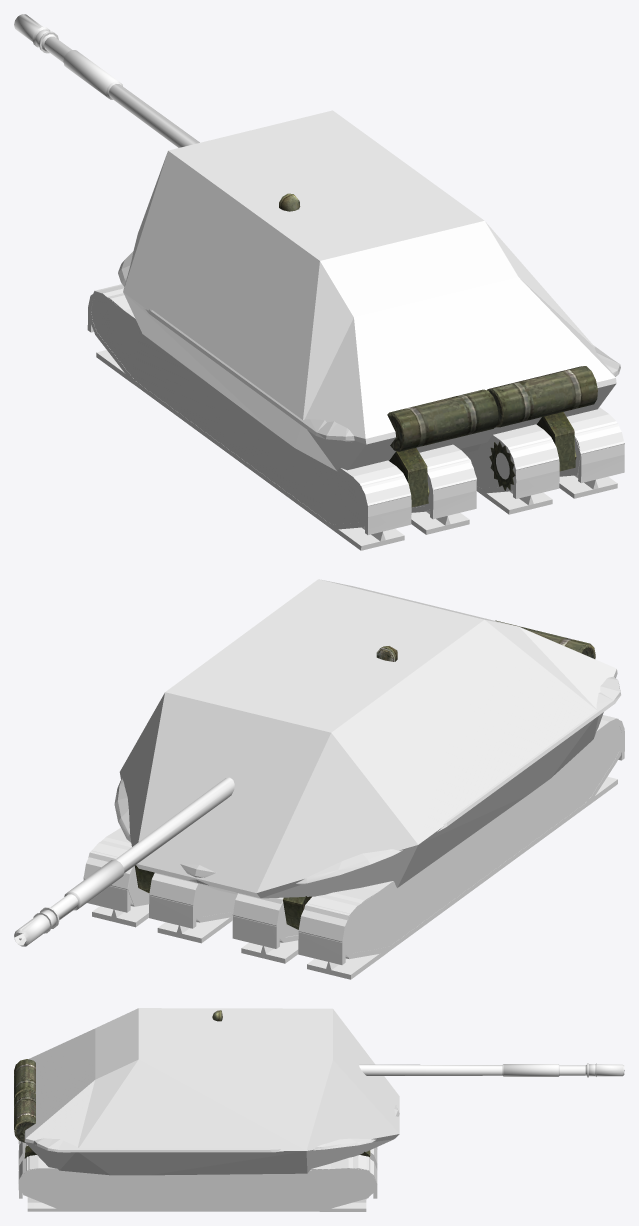
The picture shows the model from 3 angles, top to bottom: view 1: azimuth 30°, elevation 25°; view 2: azimuth 150°, elevation 25°; view 3: azimuth 270°, elevation 25°; orthographic projection. The views are drawn at different scales.
Parts seen in each view (by area): view 1: 279_hull_phys, 279_module_tracks_40, hull_vis, tracks_crash, trackL, 279_gun_mask_40, trackR, 279_armor_hull_100, 279_armor_hull_155; view 2: 279_hull_phys, 279_module_tracks_40, tracks_crash, trackL, 279_gun_mask_40, trackR, hull_vis, 279_armor_hull_155, 279_armor_hull_100, 279_armor_hull_140; view 3: 279_hull_phys, 279_module_tracks_40, 279_gun_mask_40, hull_vis, trackR, tracks_crash, 279_armor_hull_155, 279_armor_hull_100.
Part boxes in pixels (x1,y1,x2,y2): 279_hull_phys: (123, 110, 616, 471); 279_module_tracks_40: (91, 284, 624, 527); hull_vis: (387, 366, 597, 507); tracks_crash: (87, 285, 624, 550); trackL: (88, 285, 475, 529); 279_gun_mask_40: (14, 14, 199, 147); trackR: (476, 407, 623, 493); 279_armor_hull_100: (151, 310, 620, 453); 279_armor_hull_155: (143, 308, 326, 439); 279_hull_phys: (119, 579, 617, 898); 279_module_tracks_40: (83, 715, 621, 958); tracks_crash: (83, 730, 624, 979); trackL: (233, 715, 624, 958); 279_gun_mask_40: (14, 777, 234, 946); trackR: (83, 828, 232, 921); hull_vis: (135, 620, 595, 929); 279_armor_hull_155: (181, 692, 620, 892); 279_armor_hull_100: (445, 683, 620, 822); 279_armor_hull_140: (118, 797, 367, 877); 279_hull_phys: (24, 1008, 399, 1175); 279_module_tracks_40: (19, 1144, 376, 1211); 279_gun_mask_40: (359, 1063, 624, 1077); hull_vis: (14, 1059, 370, 1158); trackR: (19, 1141, 377, 1211); tracks_crash: (18, 1140, 377, 1211); 279_armor_hull_155: (47, 1105, 397, 1152); 279_armor_hull_100: (33, 1141, 269, 1152).
Bounding box in the file's own units: 41.93 × 30.52 × 116.
Materials: 7 (4 with a texture image).
